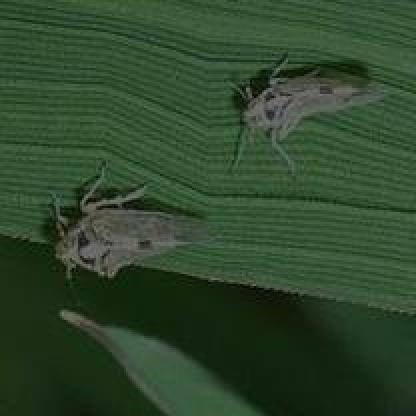brown-planthopper: (232, 73, 392, 143), (50, 209, 212, 277)
